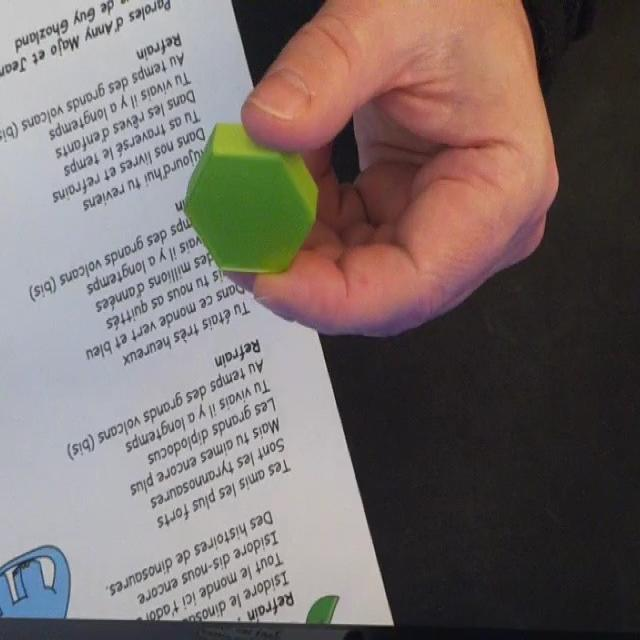hexagon: (180, 117, 318, 276)
